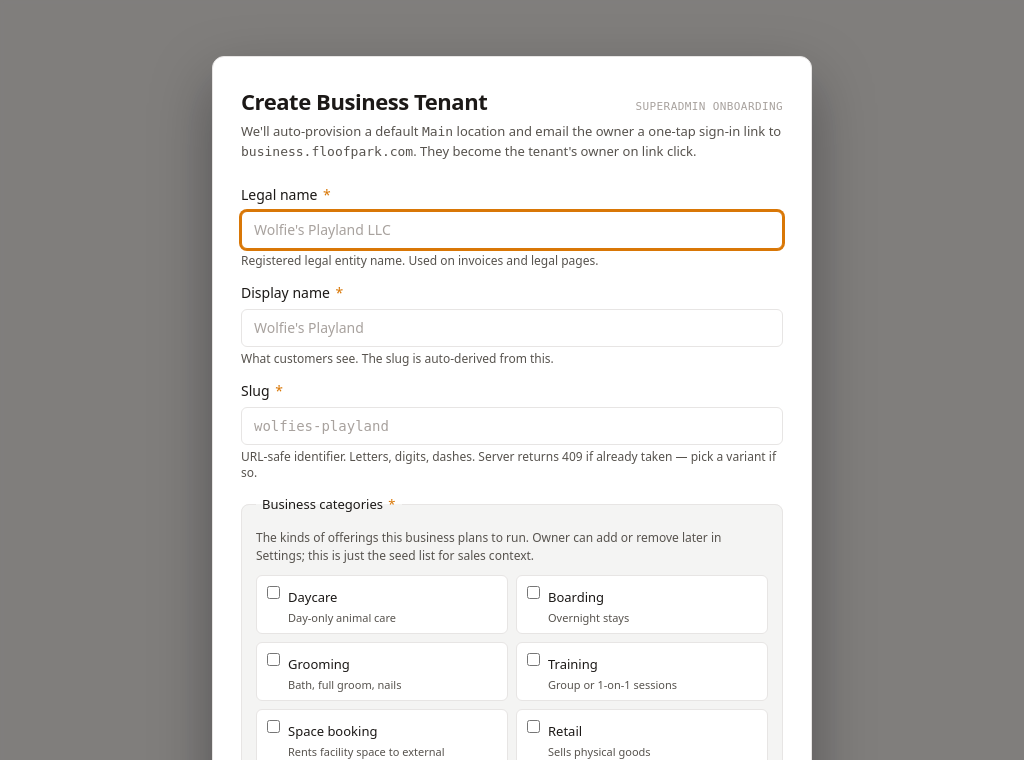
rejects invalid email format
Type "Acme LLC" into the field labelled "Legal name *" at (512, 230), box [241,211,783,249]
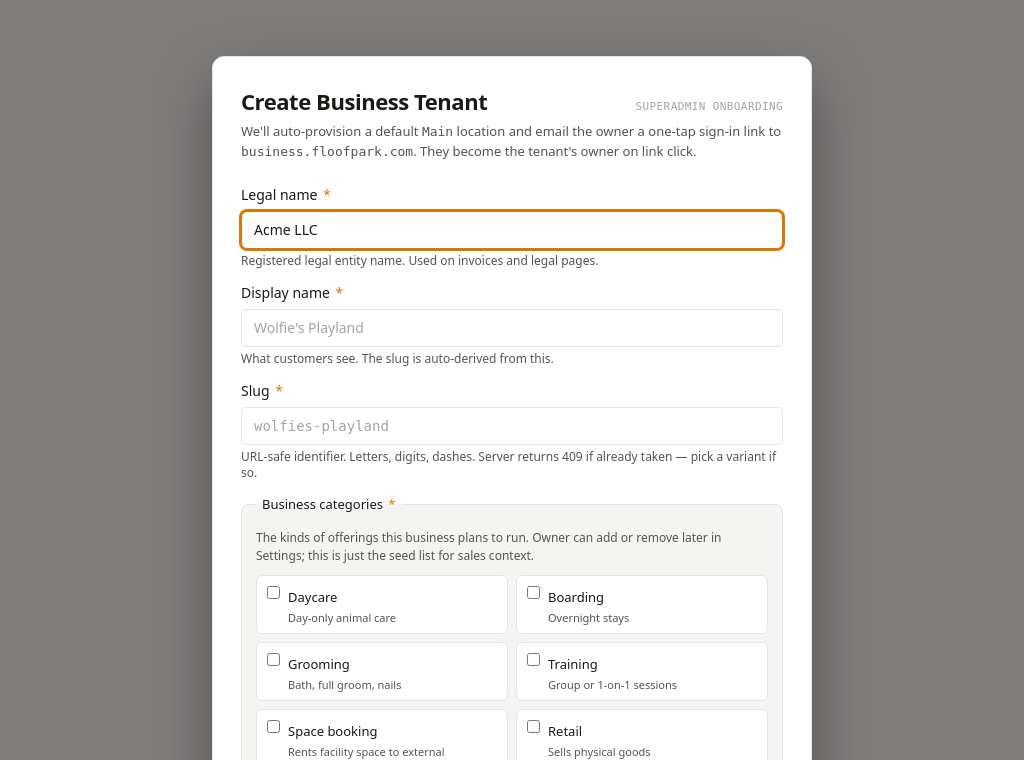
Type "Acme" into the field labelled "Display name *" at (512, 328), box [241,309,783,347]
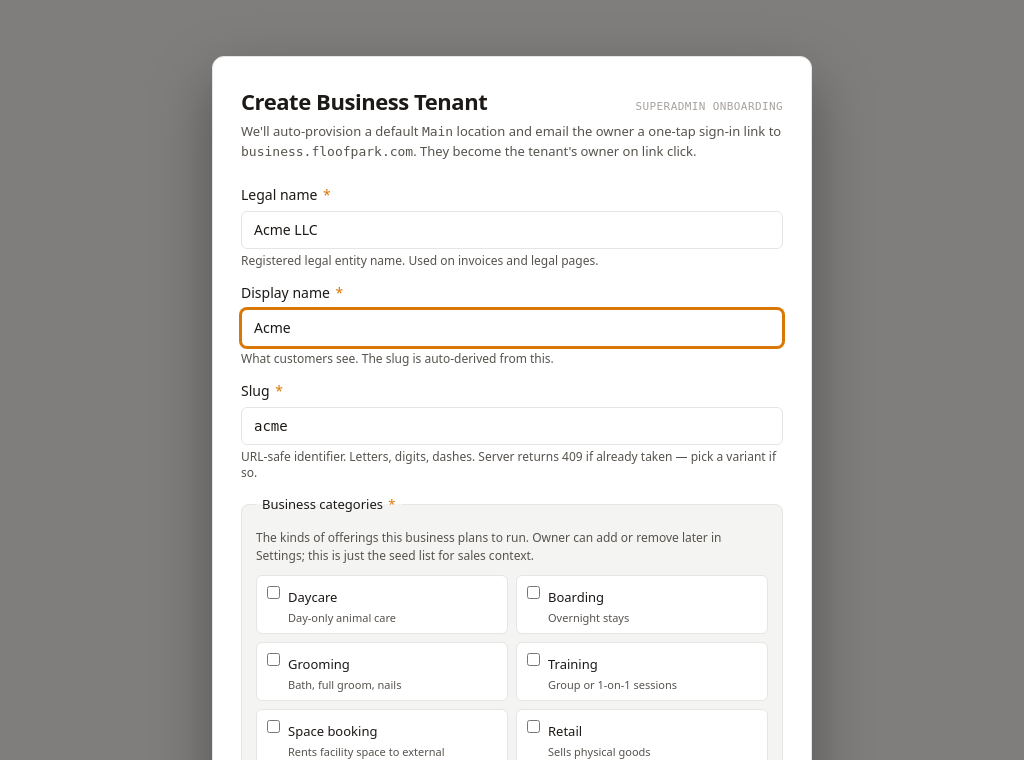
Click the checkbox labelled "Daycare Day-only animal care" at (274, 592), box [267,586,280,598]
(page scrolled)
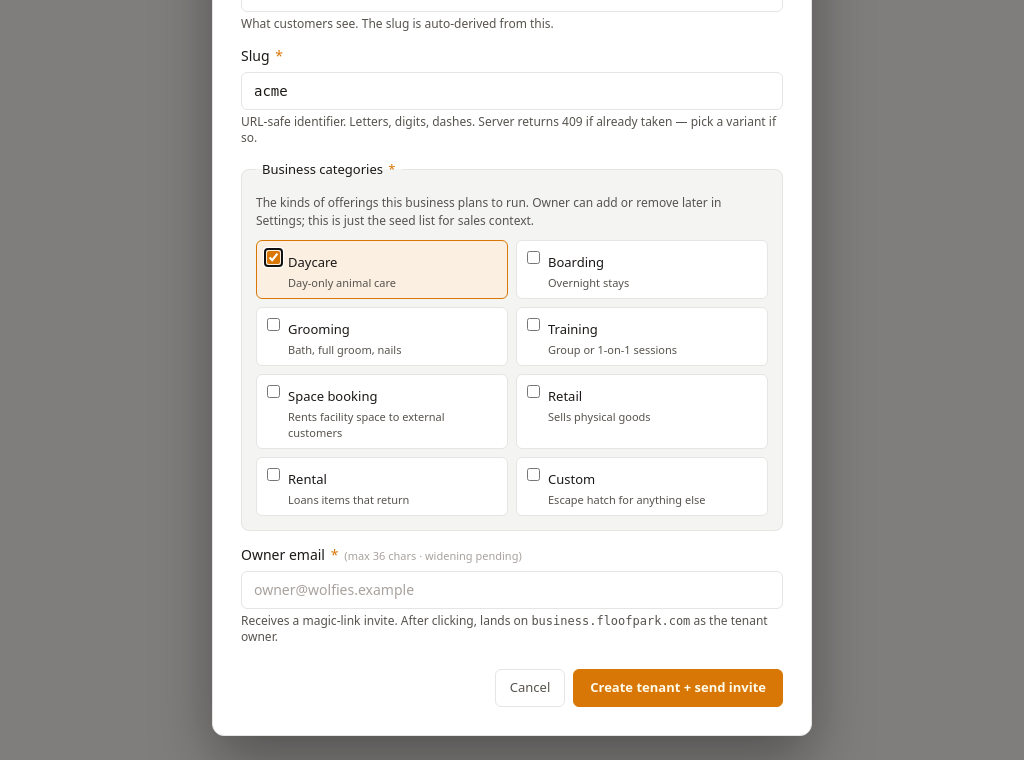
Type "not-an-email" into the field labelled "Owner email *(max 36 chars · widening pending)" at (512, 590), box [241,572,783,610]
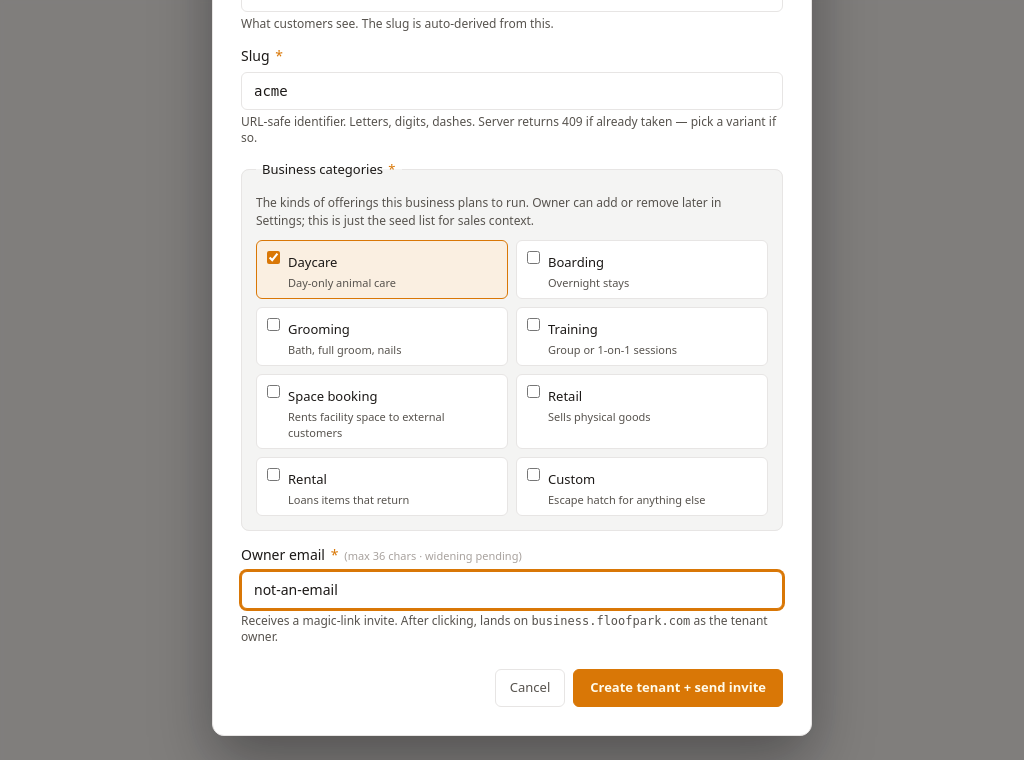
Click the button "Create tenant + send invite" at (678, 688), box [573,670,783,707]
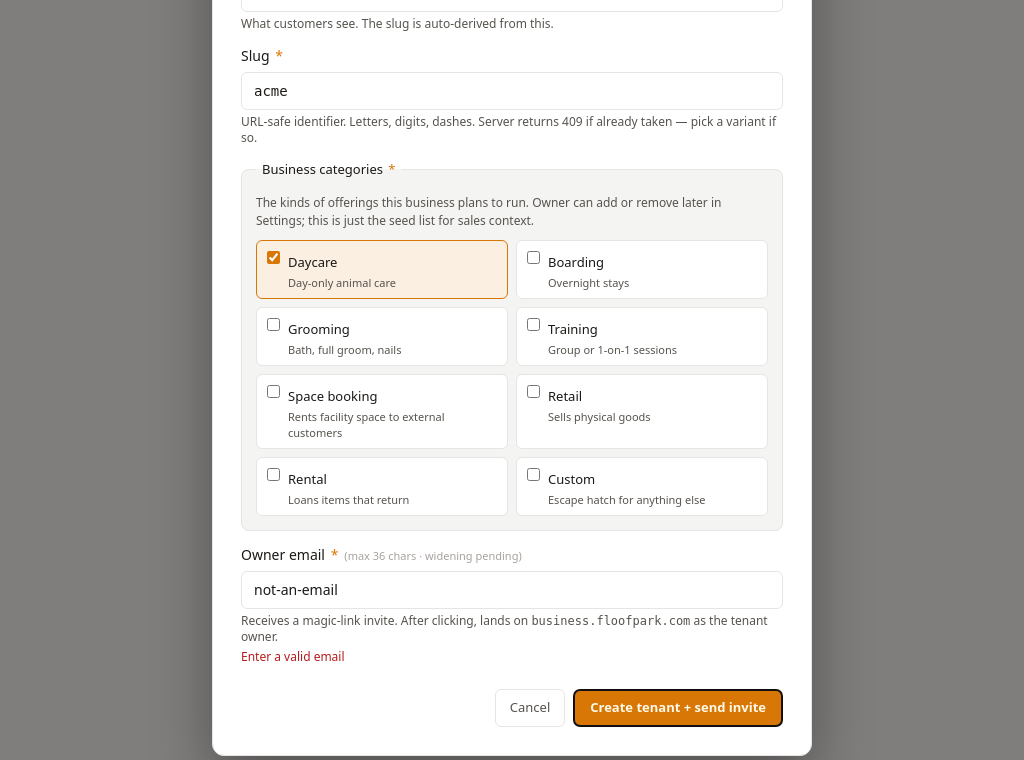
expect the text "Enter a valid email" is shown: met, box [241,648,345,666]
